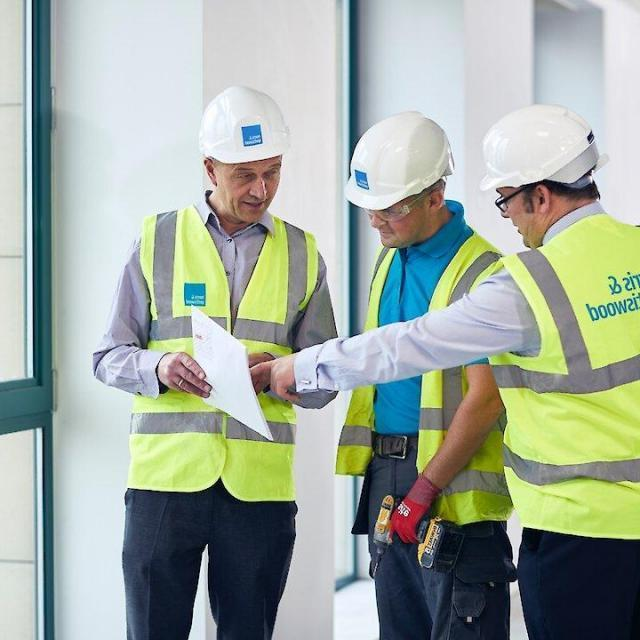helmet: (474, 94, 612, 210), (324, 104, 458, 209), (186, 76, 297, 168)
safety_vest: (130, 191, 310, 515), (485, 214, 640, 546), (340, 221, 502, 536)
